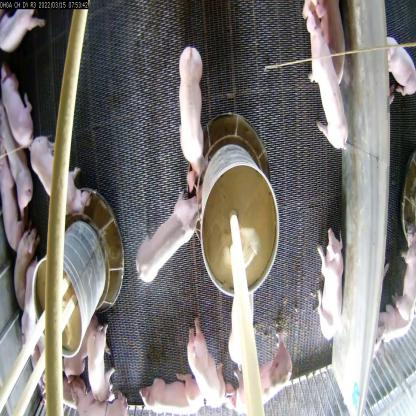Pig: (297, 1, 355, 157), (125, 200, 208, 298), (26, 136, 90, 245), (166, 51, 213, 181), (227, 338, 295, 415), (0, 43, 44, 151), (309, 229, 346, 346), (179, 325, 222, 402), (57, 375, 132, 415), (136, 371, 204, 415), (0, 140, 26, 246), (7, 219, 33, 299), (86, 314, 110, 396)
